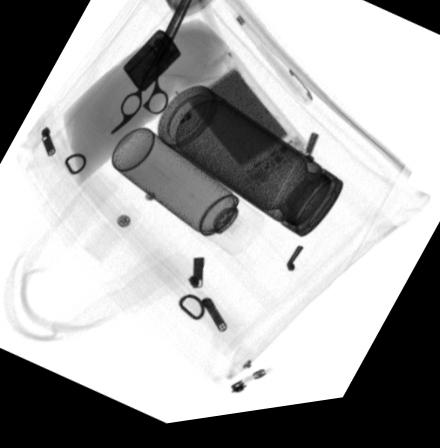Lighter: (121, 35, 183, 98)
Powerbank: (171, 54, 313, 199)
Scissors: (108, 0, 196, 140)
Sprayer: (110, 130, 267, 262)
